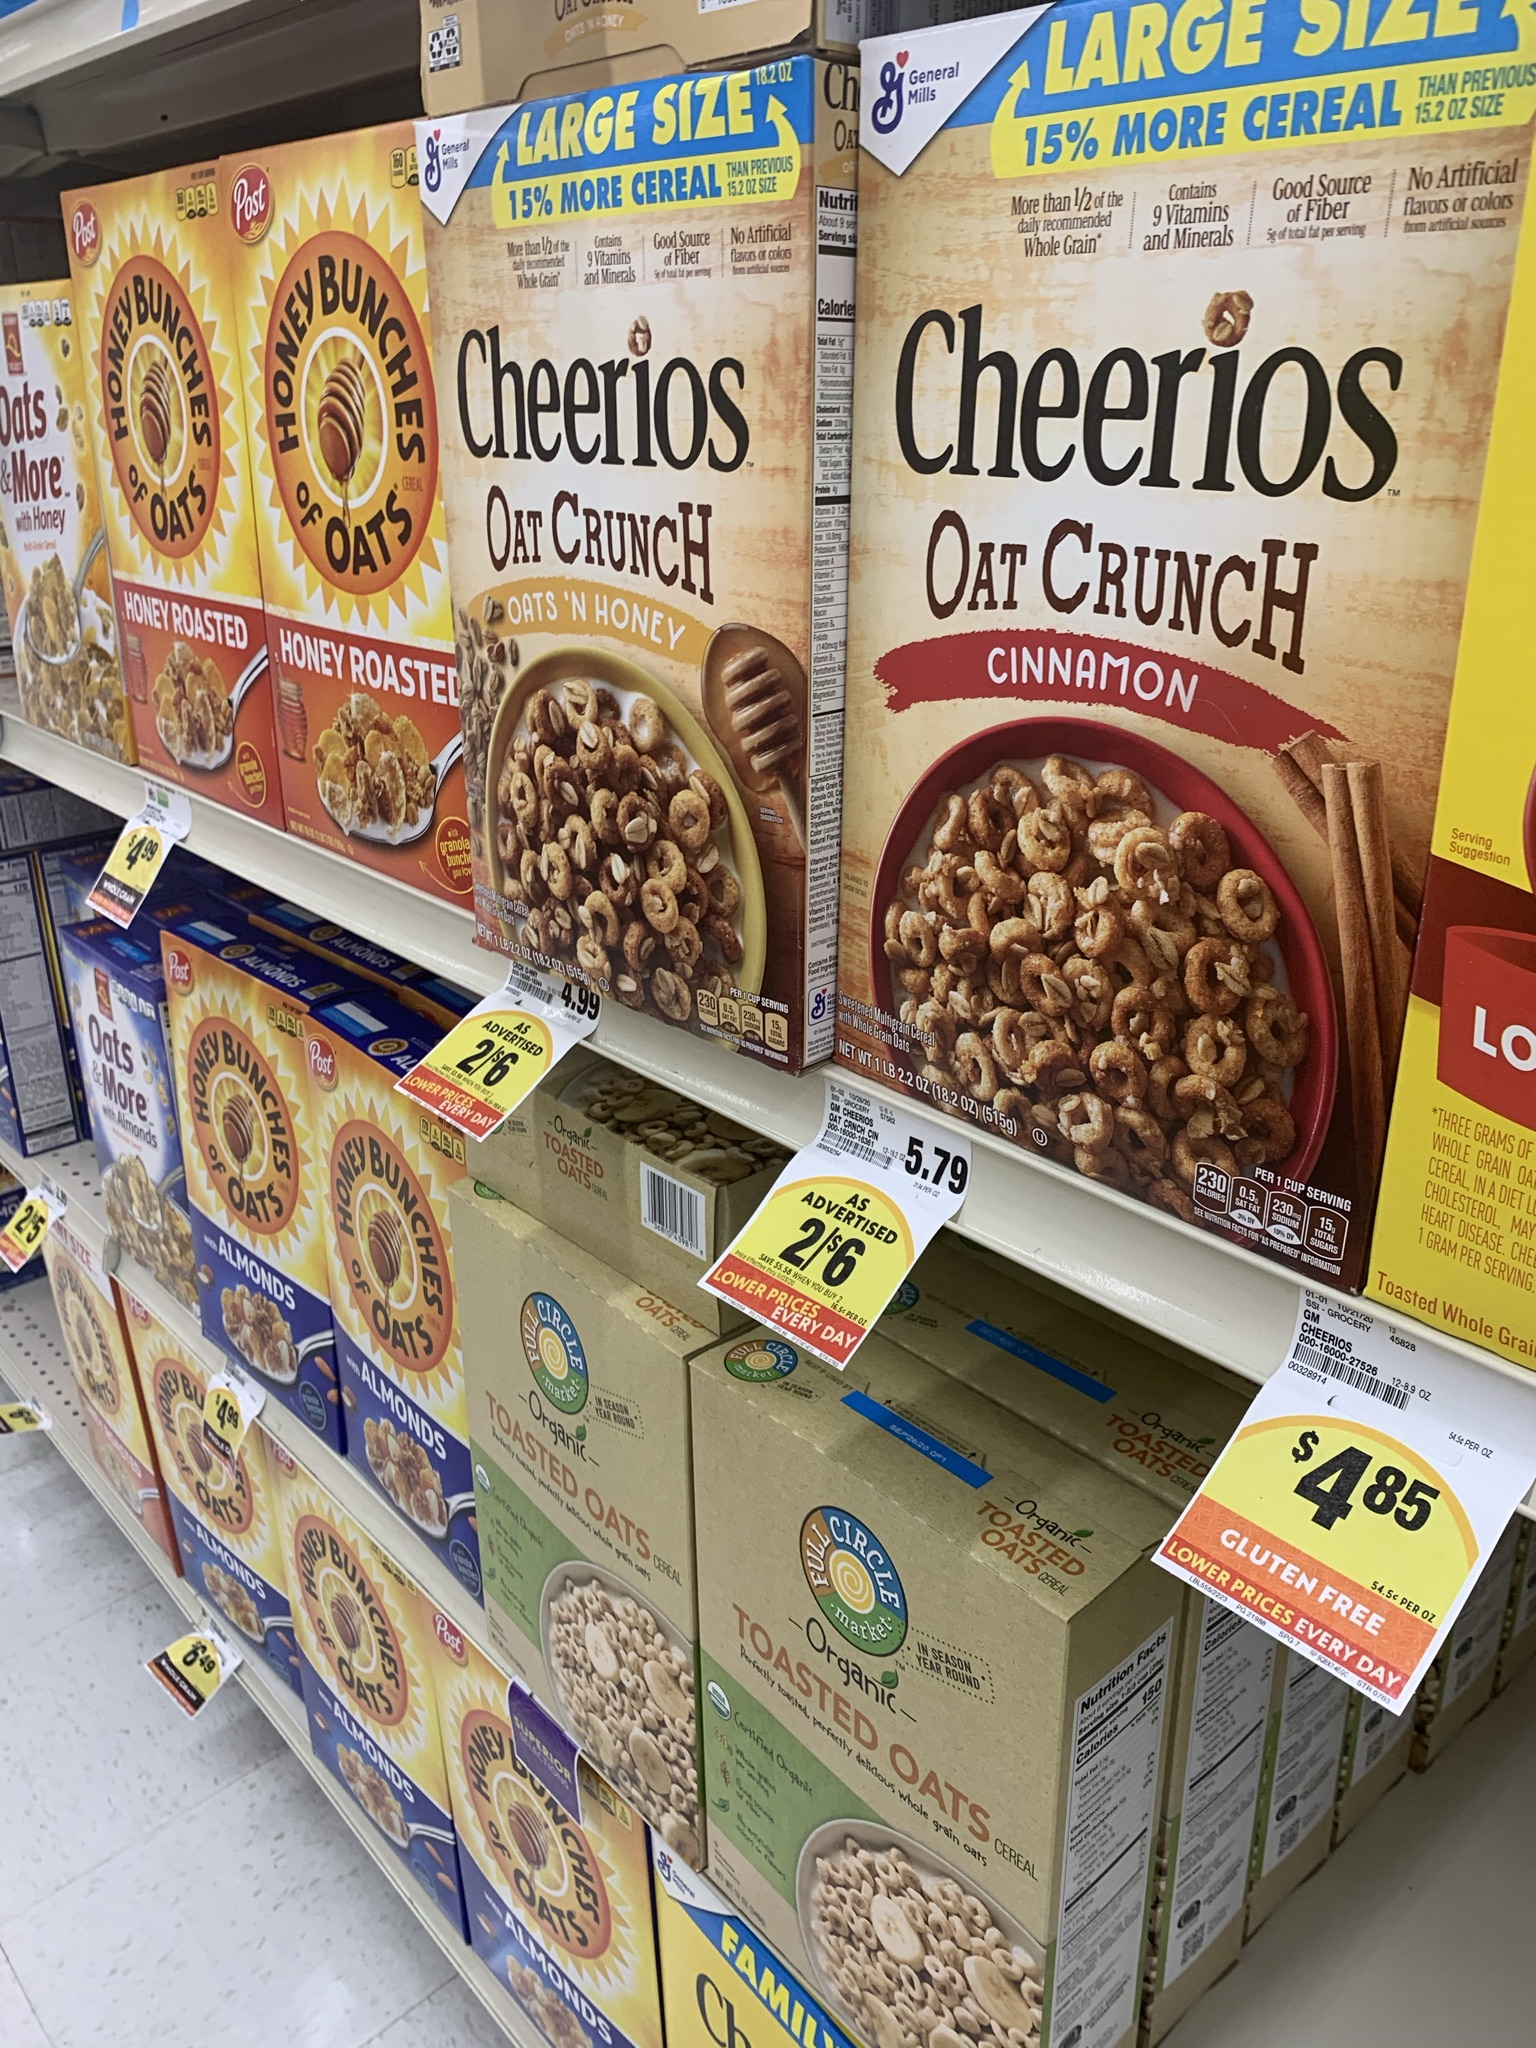box: (868, 65, 1400, 1105), (481, 74, 845, 942), (703, 1414, 1049, 1998), (278, 140, 411, 830), (474, 1256, 686, 1666), (140, 187, 211, 761)
